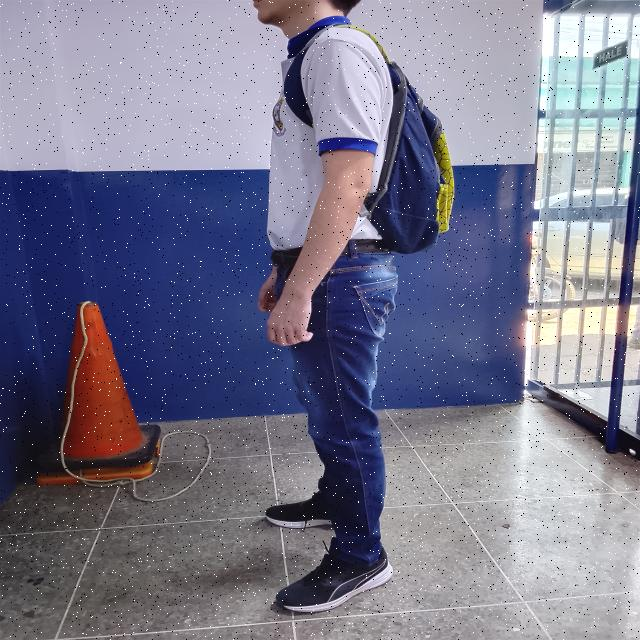pantalon_oscuro: (275, 253, 399, 566)
uniforme_superior: (266, 15, 394, 251)
